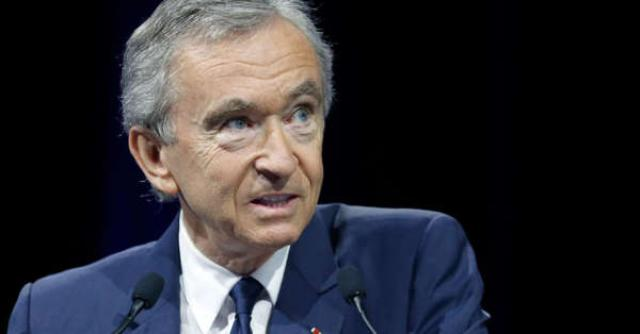crows_feet: (198, 131, 220, 161)
forehead: (225, 57, 312, 79)
gummy_smile: (294, 150, 316, 193), (233, 155, 253, 197)
